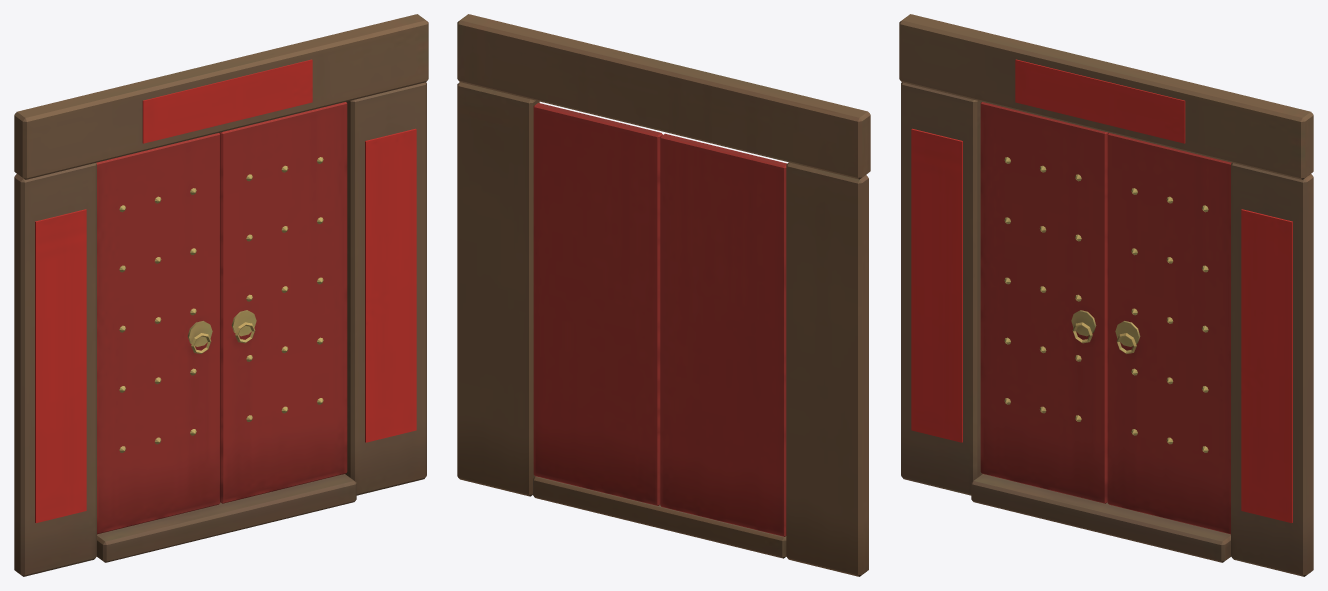
Rendered from red_door.glb.
The picture shows the model from 3 angles, left to right: view 1: azimuth 30°, elevation 25°; view 2: azimuth 150°, elevation 25°; view 3: azimuth 330°, elevation 25°; orthographic projection.
Parts seen in each view (by area): view 1: red_door; view 2: red_door; view 3: red_door.
Boxes of the visible parts, x1,y1,x2,y2 form: red_door: (14,14,428,576); red_door: (457,14,870,576); red_door: (899,14,1313,576).
Bounding box in the file's own units: 2.4 × 2.6 × 0.16.
Materials: 4 (4 with a texture image).
